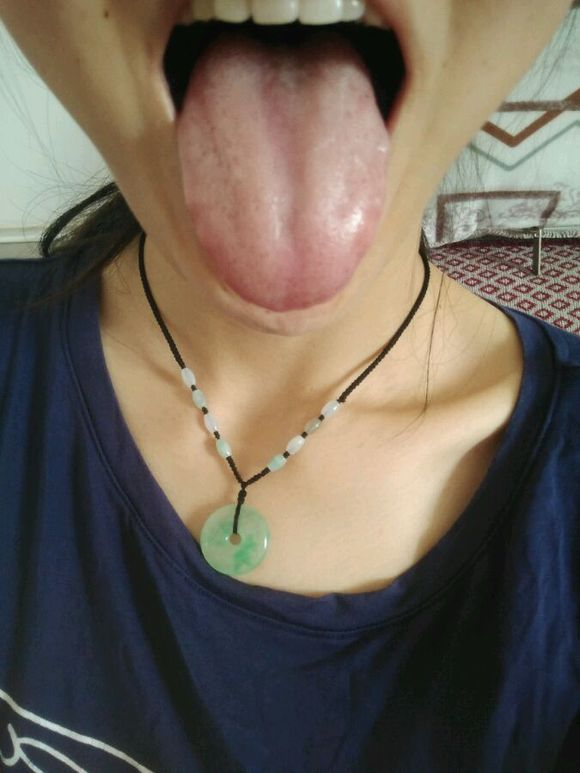baitaishe: (178, 46, 392, 311)
gandanao: (181, 80, 244, 271), (333, 80, 391, 274)
